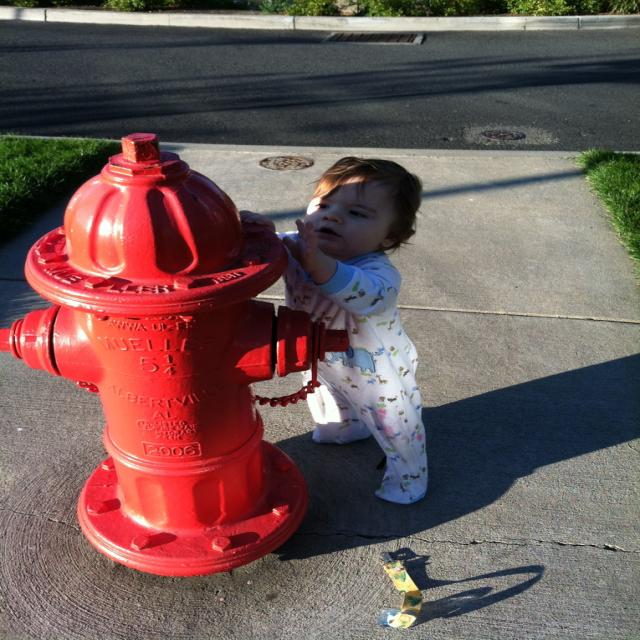fire_hydrant: (2, 126, 346, 574)
